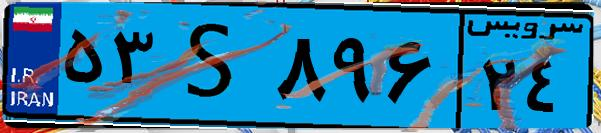2: (475, 38, 525, 113)
3: (110, 28, 158, 98)
4: (525, 38, 570, 115)
5: (57, 26, 110, 100)
6: (385, 28, 445, 110)
8: (270, 28, 330, 110)
9: (330, 28, 385, 110)
S: (158, 12, 270, 120)
